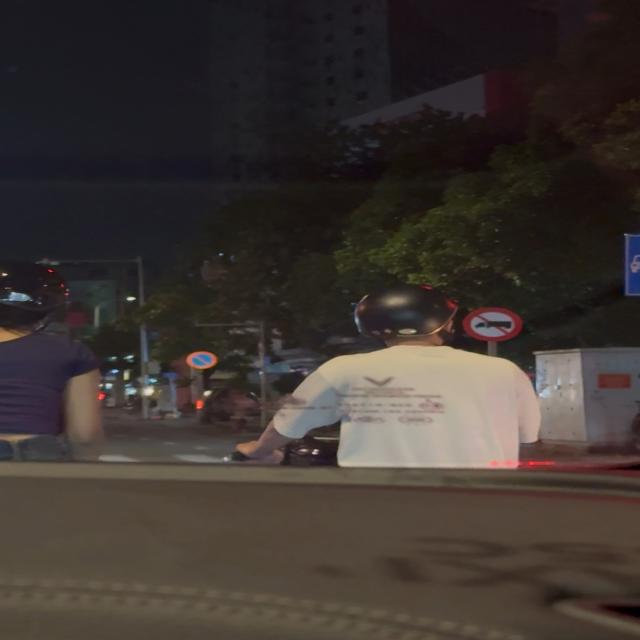Bien bao cam do xe: (184, 350, 217, 370)
Bien bao cam xe so-mi ro-mooc: (458, 308, 529, 346)
